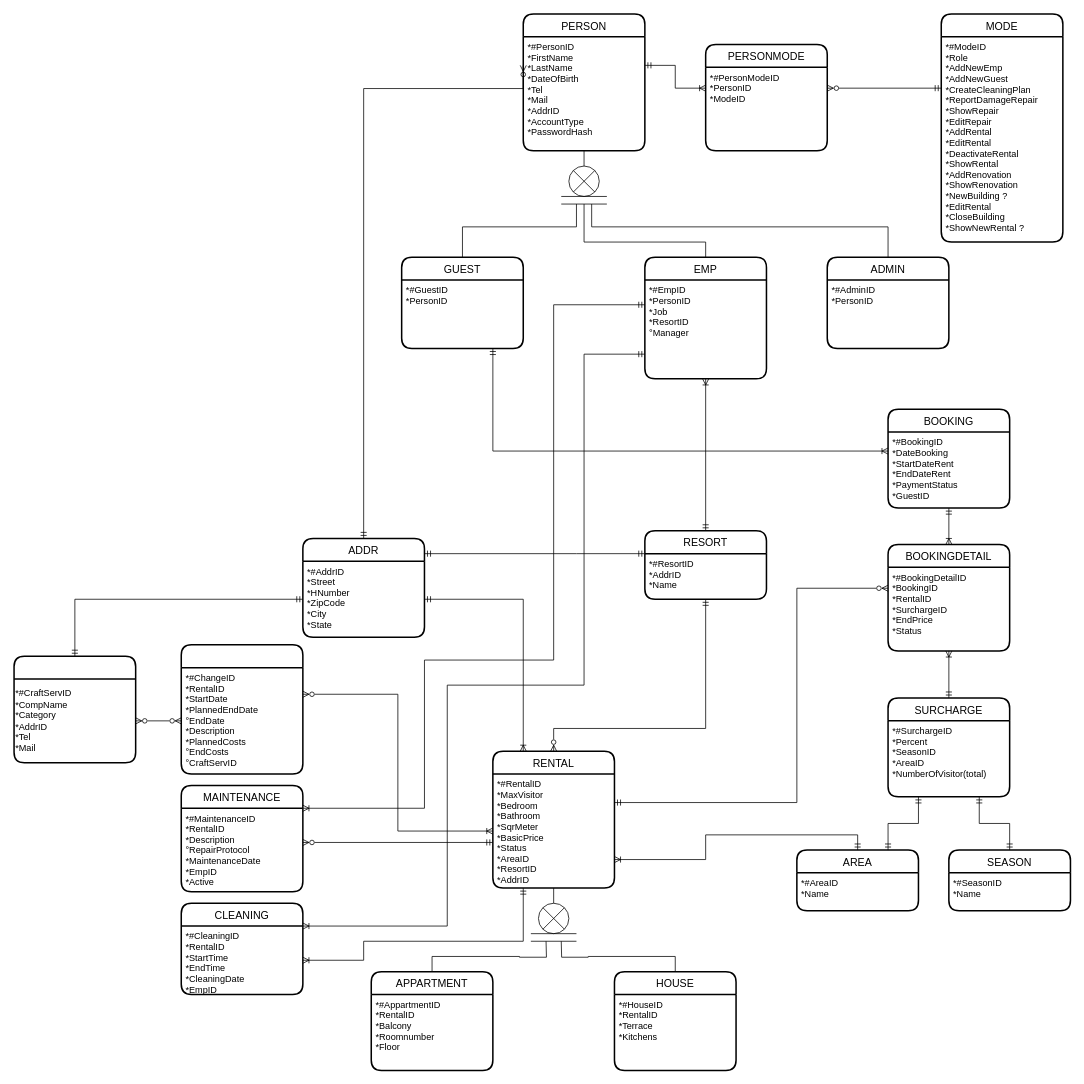
Image size: 1084x1084. Some labels were removed from this diagram. The shapes that lost their labels are listed below. From the top down, each one's box as (x1, y1, x2, y2) in pixels, then its label:
(13, 655, 136, 763): CRAFTSERVICE
(180, 644, 303, 774): STRUCCHANGE
